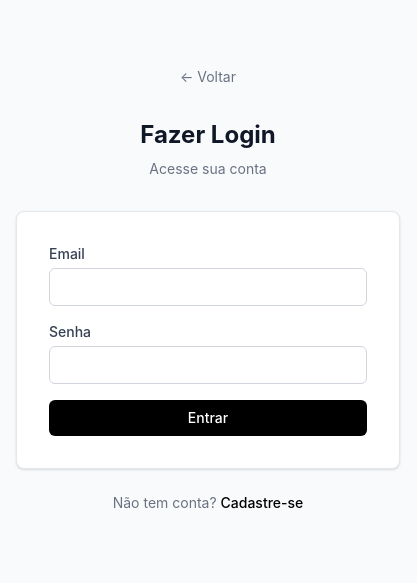
Login Page › toggles to register form
What coordinates should you click on to do the following:
click the button "Cadastre-se"
I would click on:
 (262, 503)
Its box is [220,493,303,513].
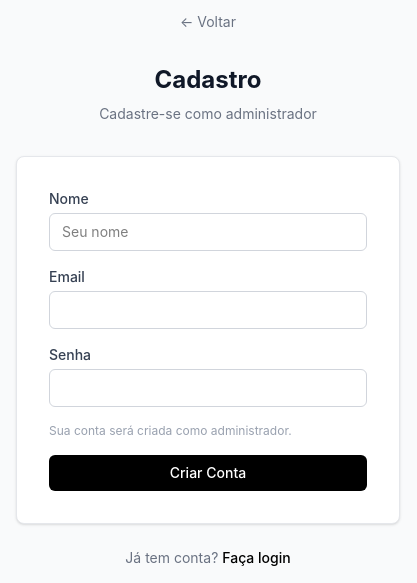
Now the button "Criar Conta" is shown, box [49,455,367,491]
